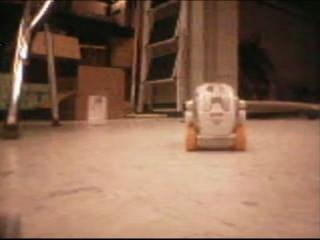cozmo: (180, 82, 319, 152)
